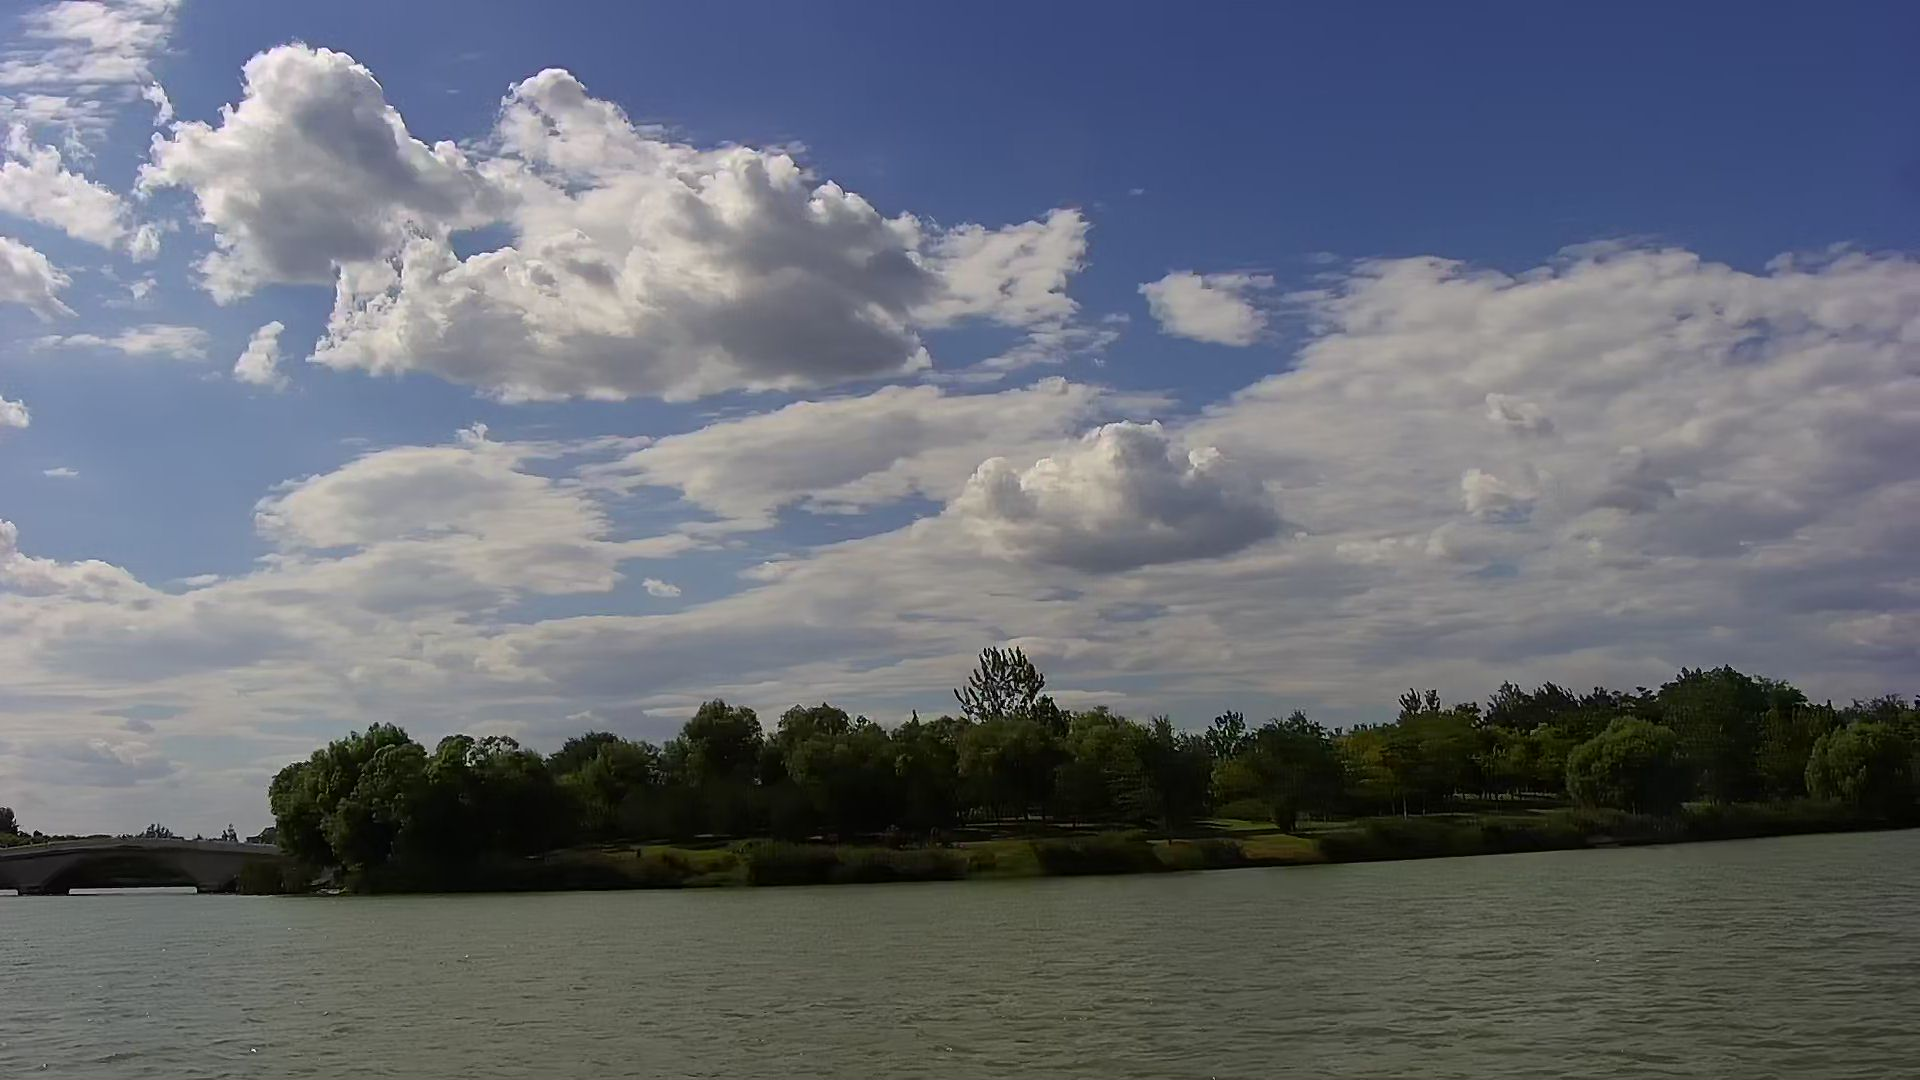bridge: (3, 841, 282, 895)
